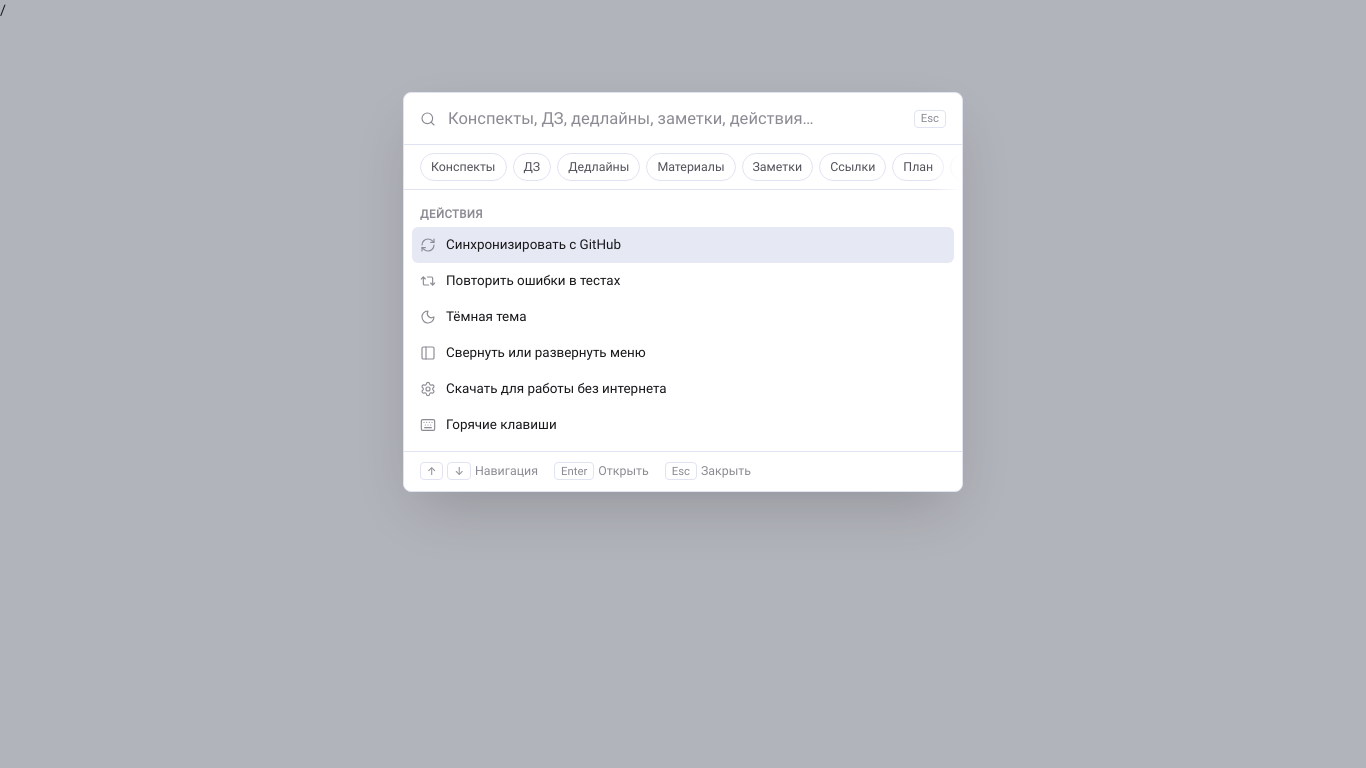
Test case: поиск: находит конспект по тексту внутри, Enter открывает его
In the field named "Поиск": [675, 119] box [446,93,904,144], type "рекуррента"
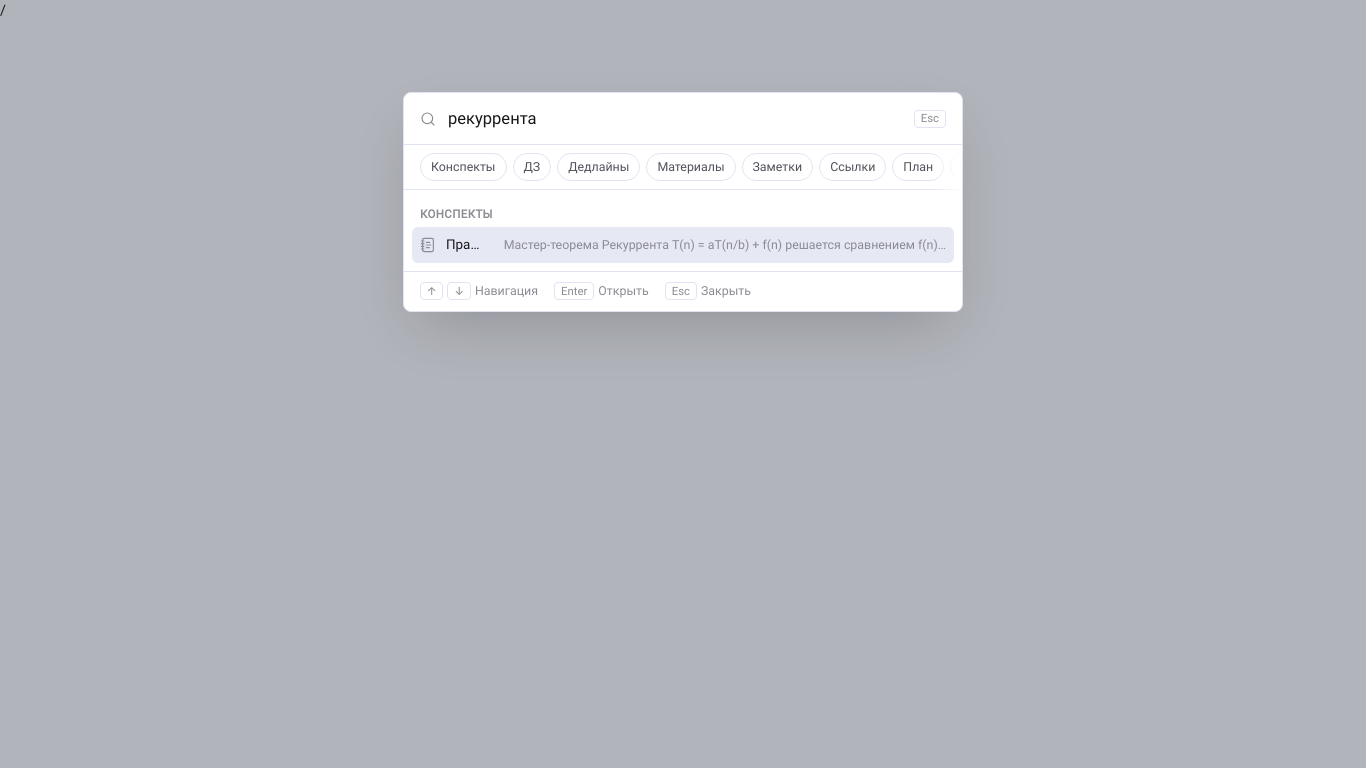
Now the text "Практика 3. Мастер-теорема" is shown, box [446,235,482,254]
Press Enter
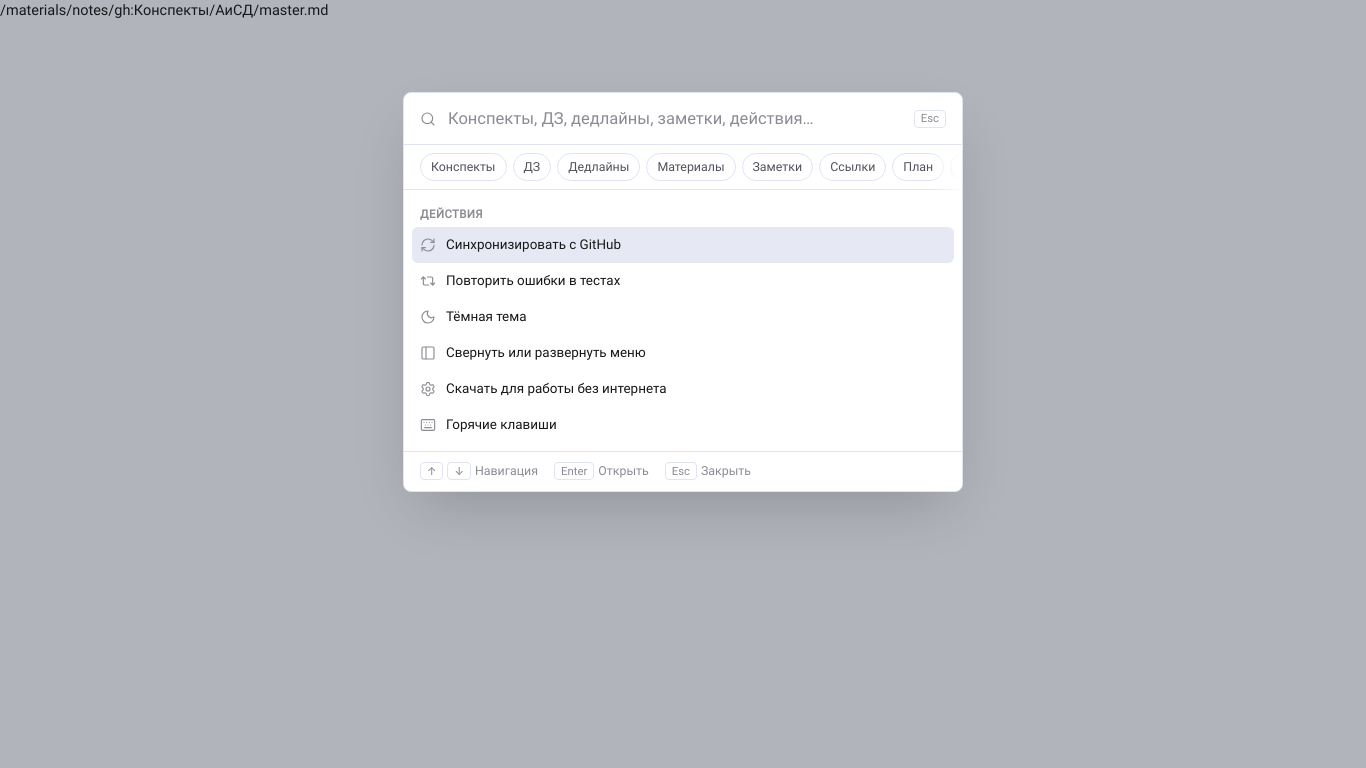
Now the text with test id "where" reads "/materials/notes/gh:Конспекты/АиСД/master.md", box [0,1,328,19]
